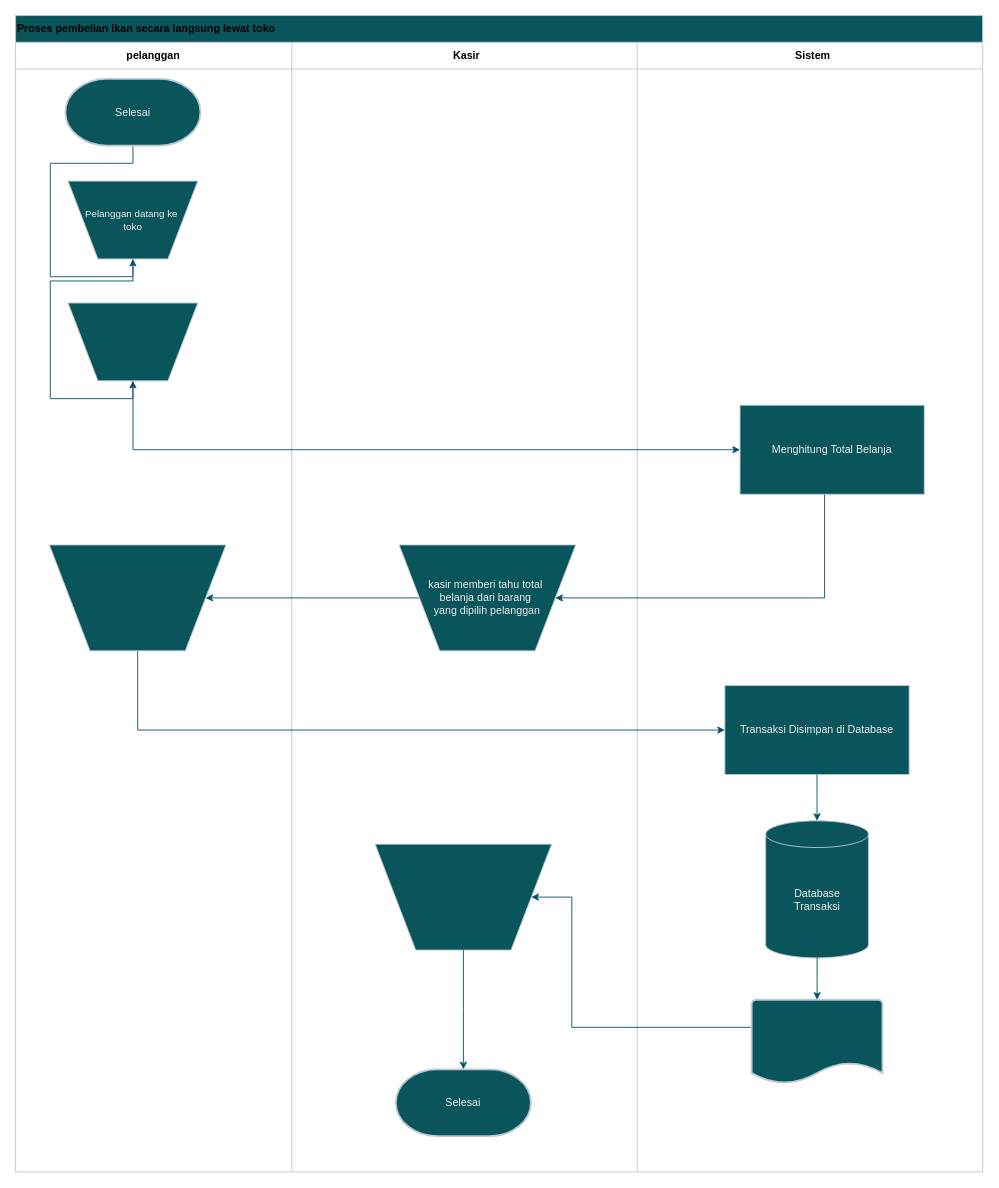
Image size: 999x1188. Some labels were removed from this diagram. The shapes that lost their labels are listed below. From the top down, each one's centre as x and y in pixels, then its label:
At pixel 132 341: "Pelanggan membeli produk yang dipilih".
At pixel 137 597: "Total Tagihan DIbayarkan".
At pixel 463 896: "Kasir Memberi Struk".
At pixel 816 1041: "Struk Pembayaran".
